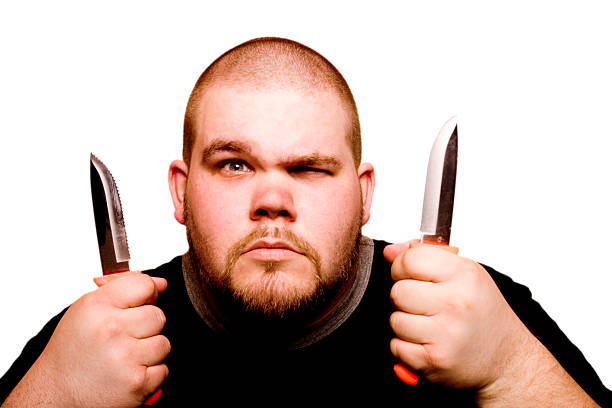knife: (391, 110, 461, 388), (88, 151, 162, 407)
